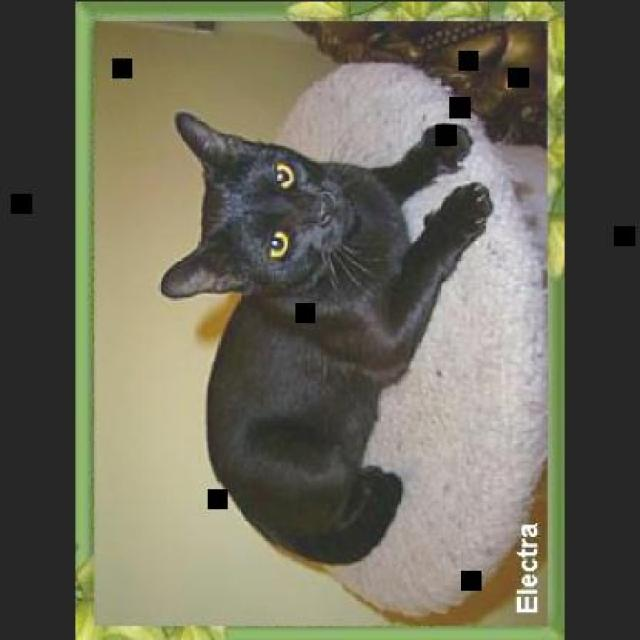unauthorized: (158, 109, 492, 566)
